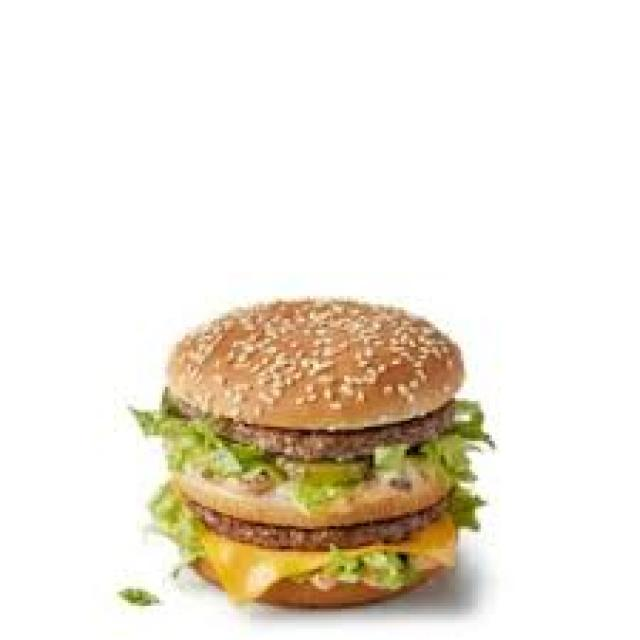햄버거: (128, 304, 486, 612)
